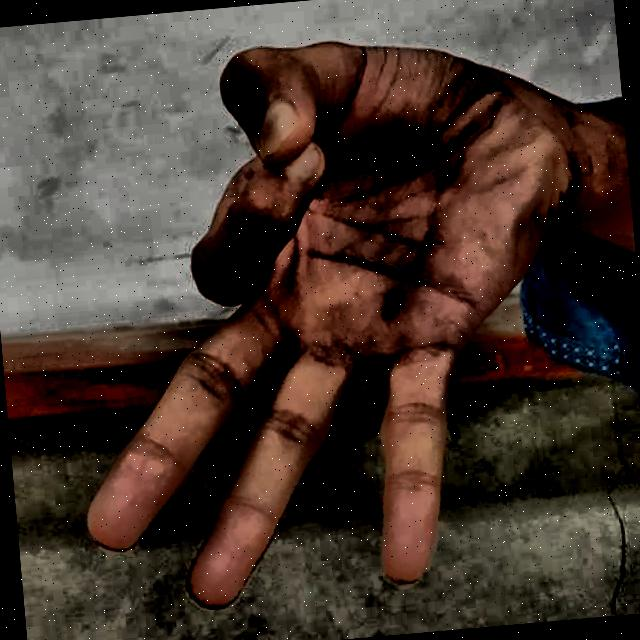Fa: (20, 0, 620, 640)
